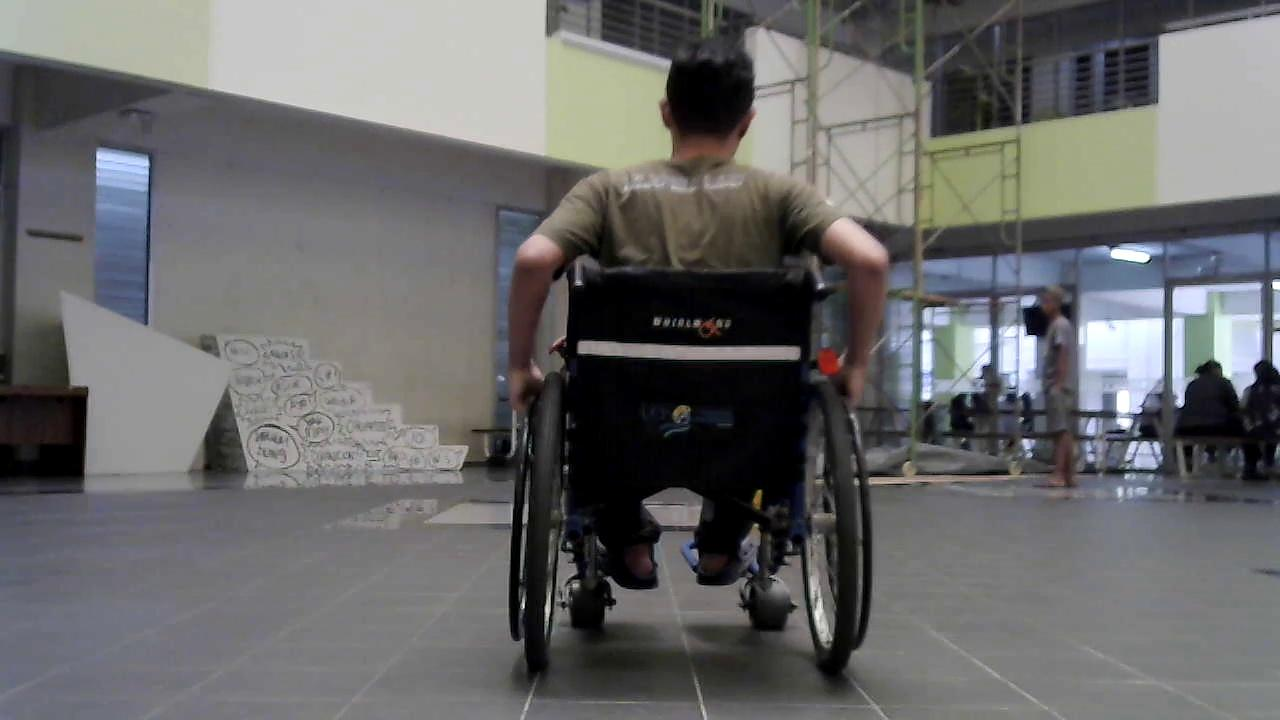person: (504, 42, 894, 582), (1175, 359, 1244, 479), (1241, 362, 1280, 477)
wheelchair: (478, 250, 896, 689)
